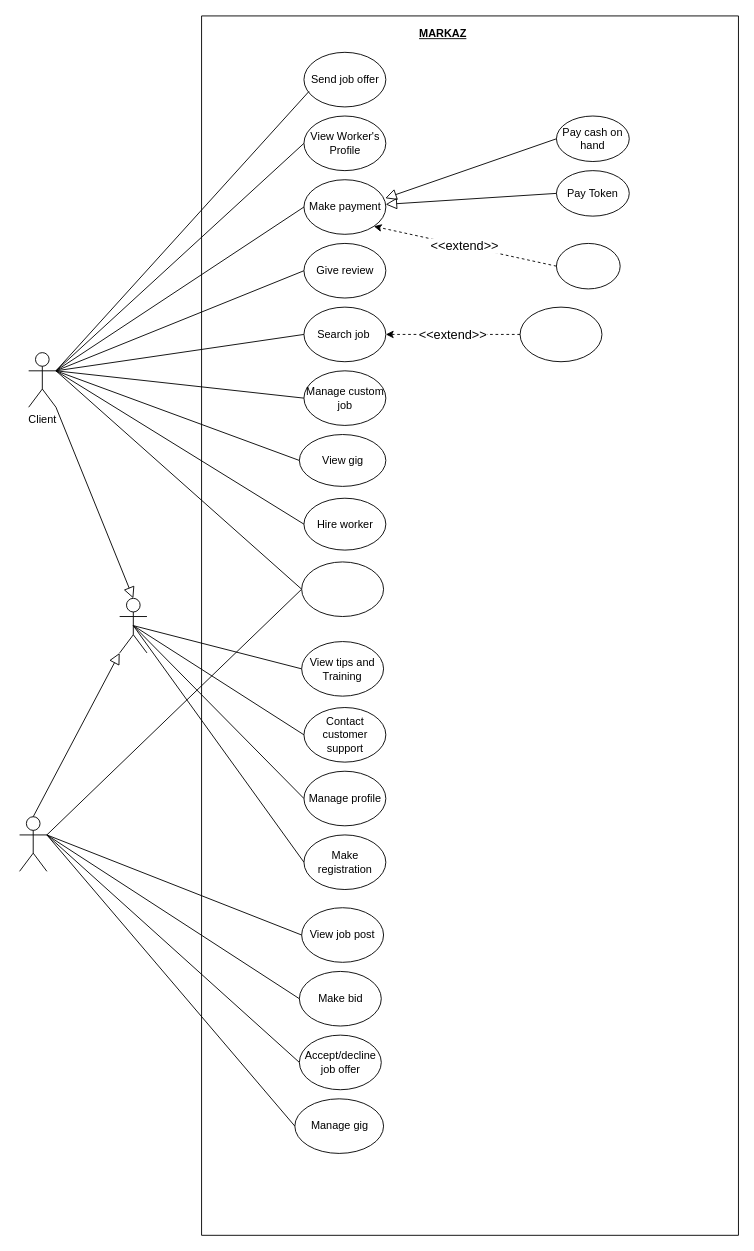
The diagram is 754 pixels wide and 1251 high, and some of its shapes have lost their labels. Each missing label, with the box of its shape:
apply search filter: (519, 306, 602, 362)
Generate invoice: (556, 243, 620, 289)
Make Chat: (301, 561, 384, 617)
User: (119, 597, 147, 653)
Worker: (19, 816, 47, 871)
